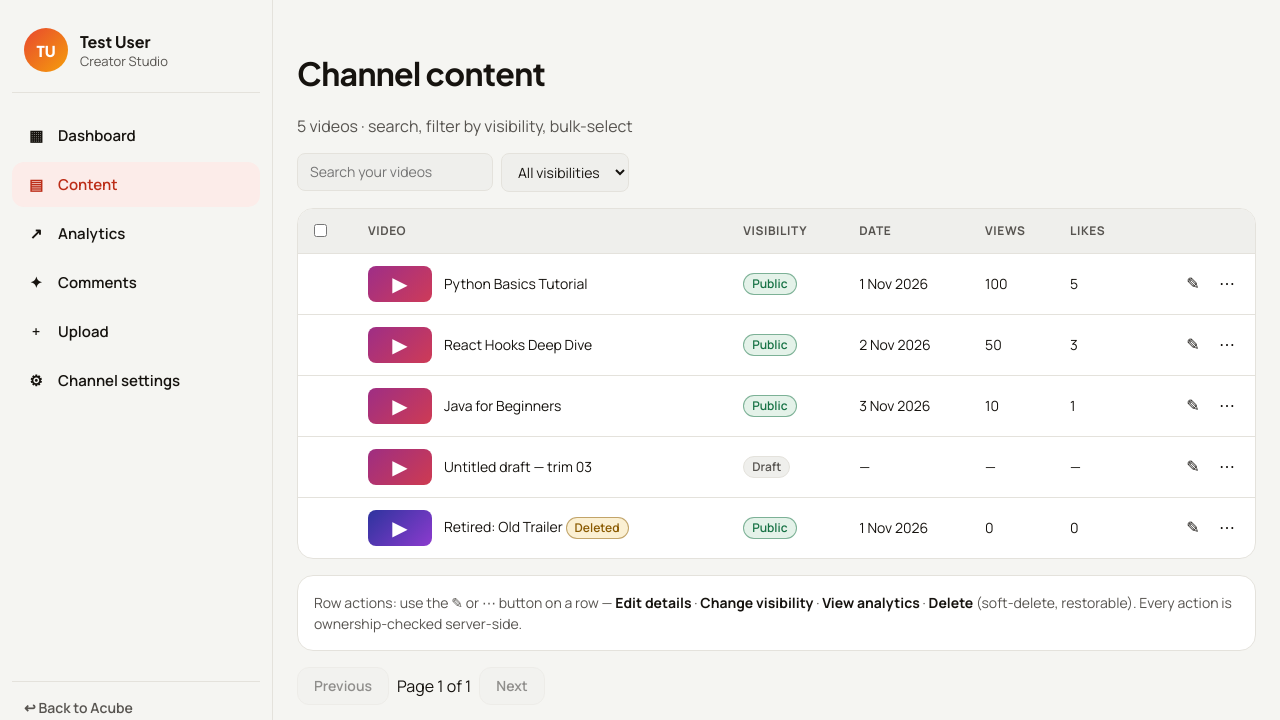
it: Studio › Content shows a server-side soft-deleted row as Deleted with Restore
Expected: the link "Retired: Old Trailer" is shown, [444,517,563,536]
Expected: the text "Deleted" is shown, [566,517,628,539]
Click the button named "Row actions for Retired: Old Trailer" at (1193, 528), box [1177,512,1209,544]
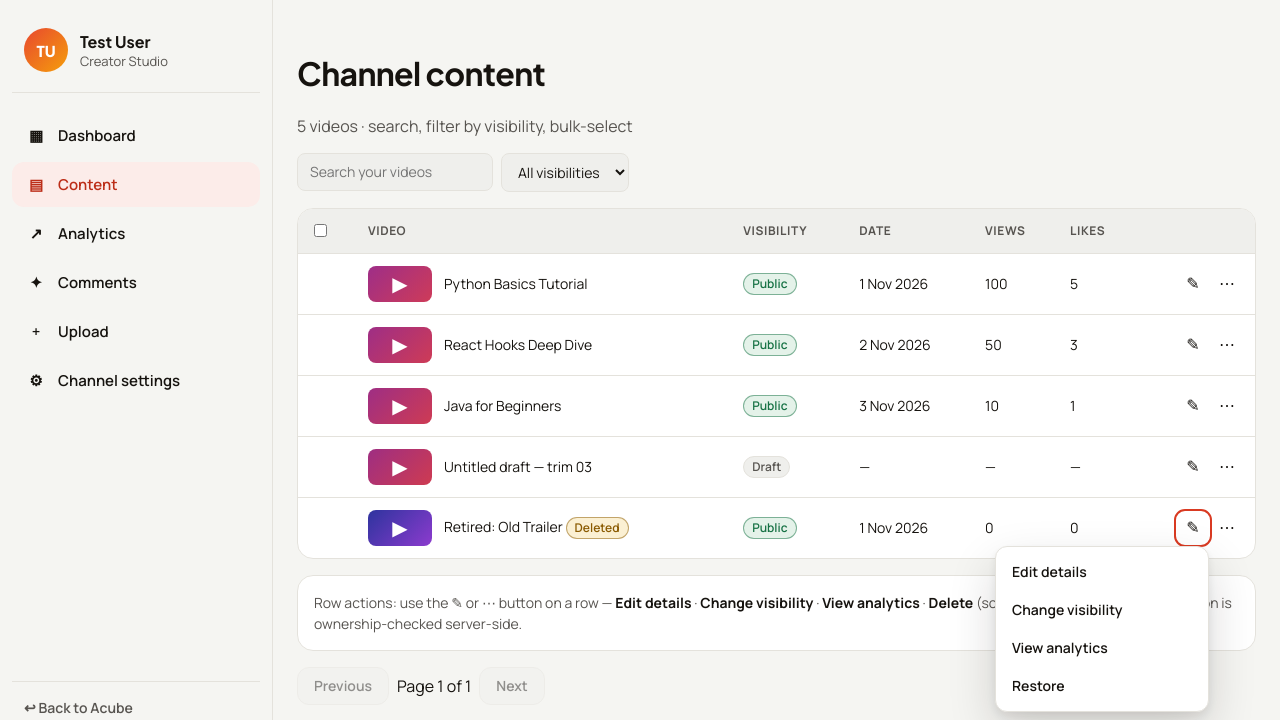
Result: the menu item "Restore" is shown at [1002,667,1202,705]
